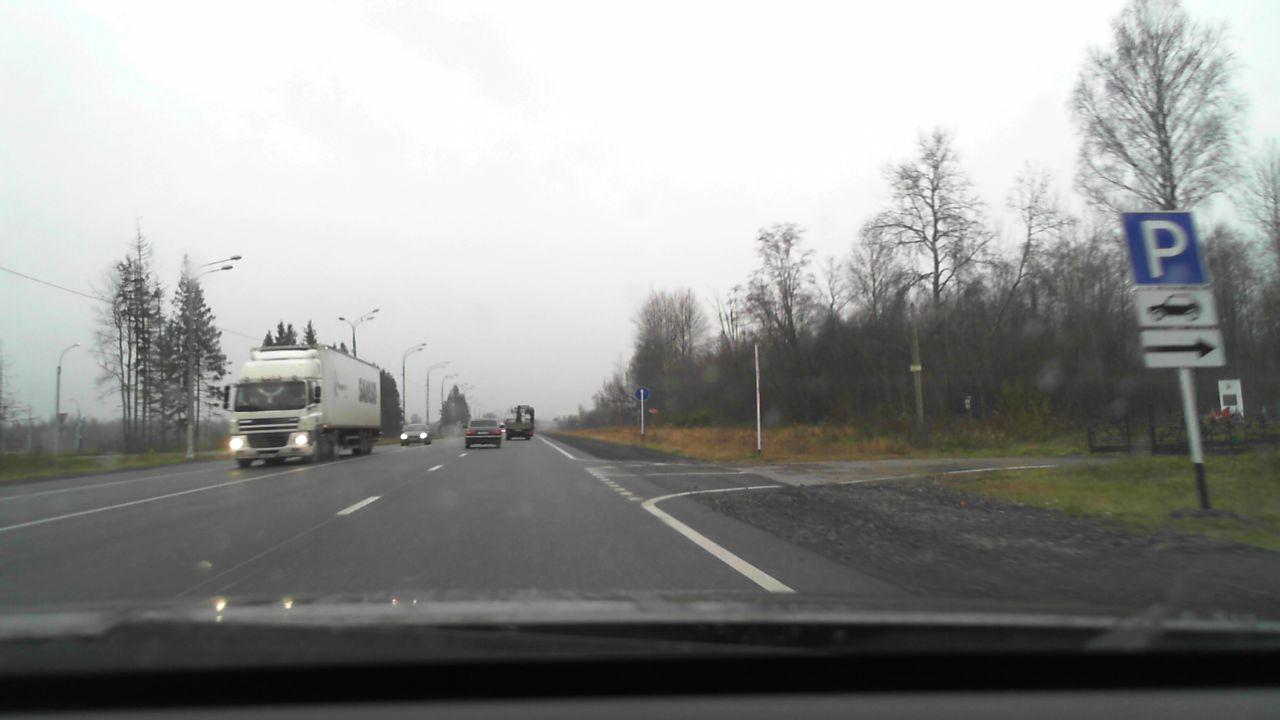4_1_1: (636, 386, 648, 400)
6_4: (1121, 210, 1210, 284)
8_3_1: (1136, 330, 1224, 368)
8_4_3_2: (1135, 290, 1218, 327)
